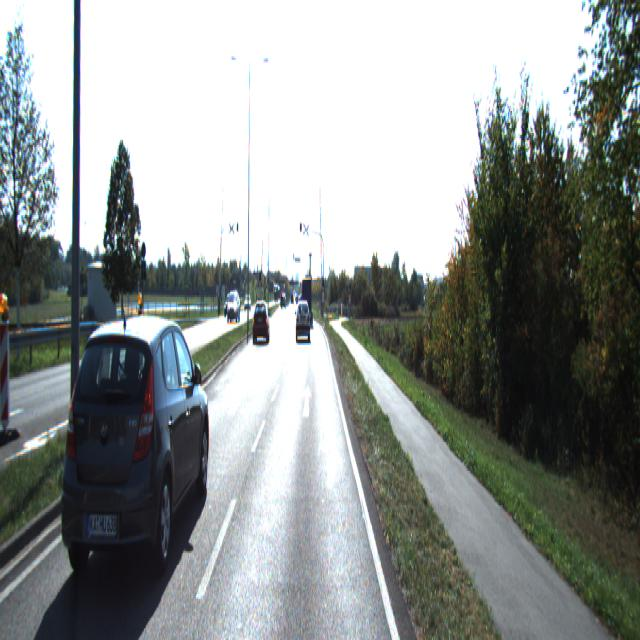Car: (53, 305, 210, 615), (252, 301, 270, 344), (296, 304, 311, 341), (302, 278, 313, 326), (227, 290, 240, 324)
